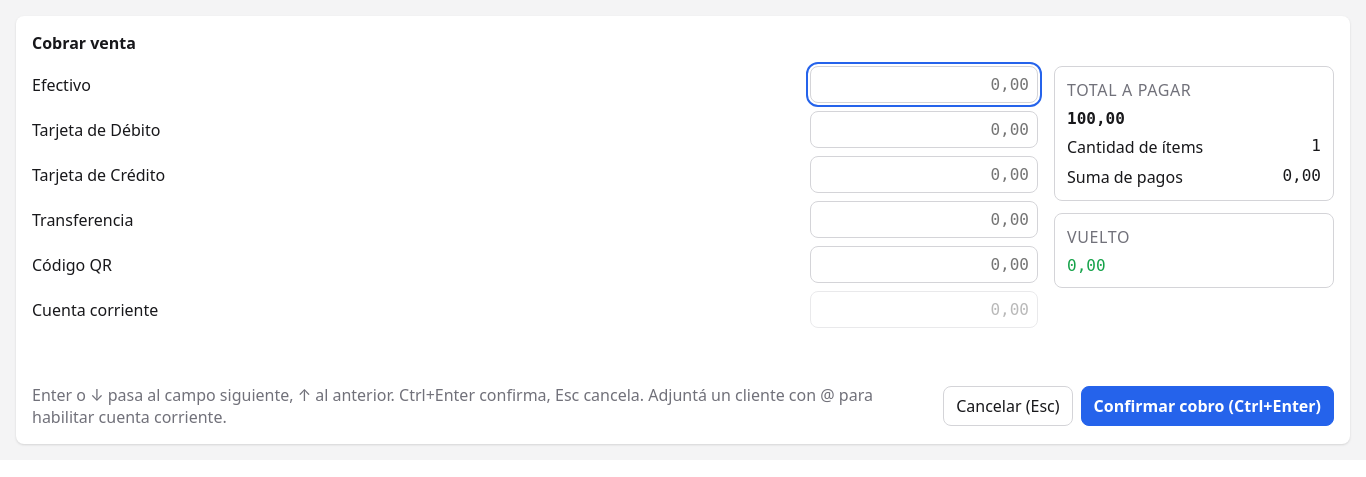
CheckoutScreen › con locale es-AR, la tecla "." se reinterpreta como coma decimal
Type "1" into the field labelled "Efectivo". click: (924, 84)
box: [810, 66, 1038, 103]
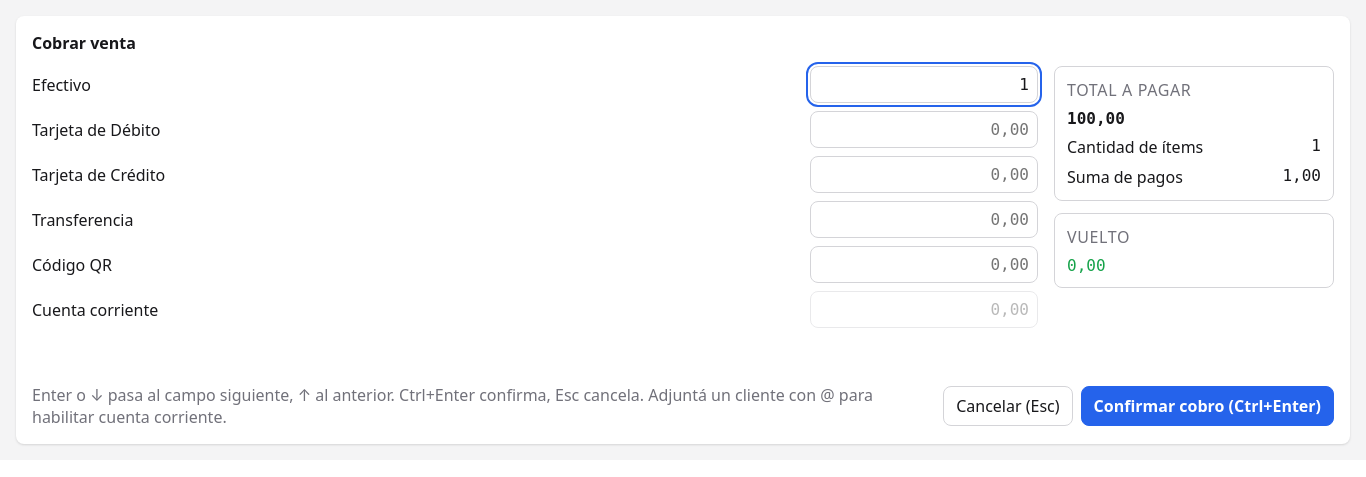
Press . in the field labelled "Efectivo", box [810, 66, 1038, 103]
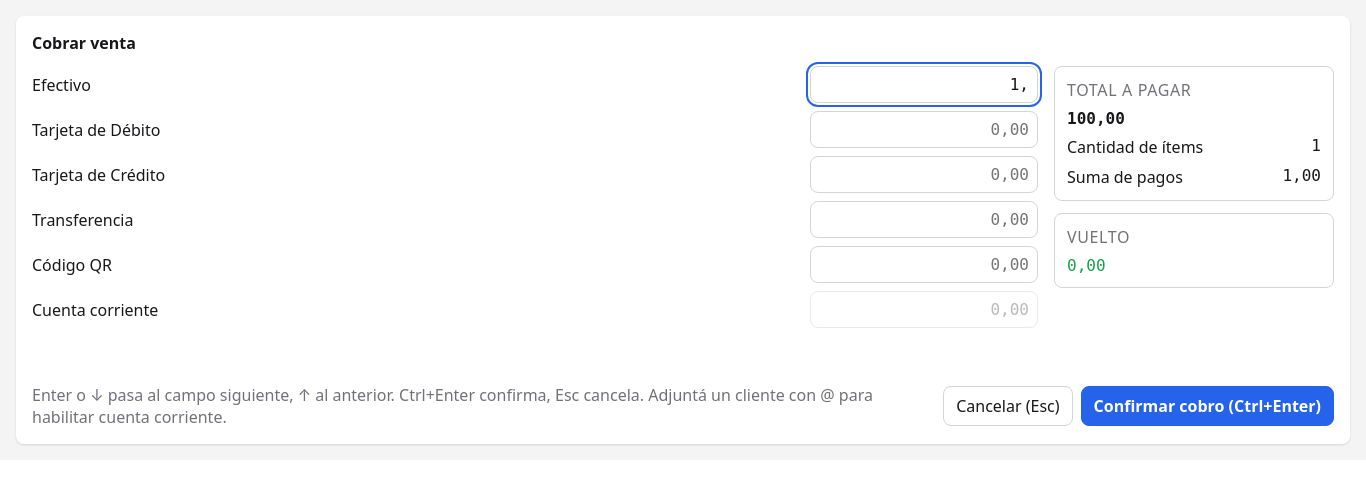
Expected: the field labelled "Efectivo" holds "1,", [810, 66, 1038, 103]
